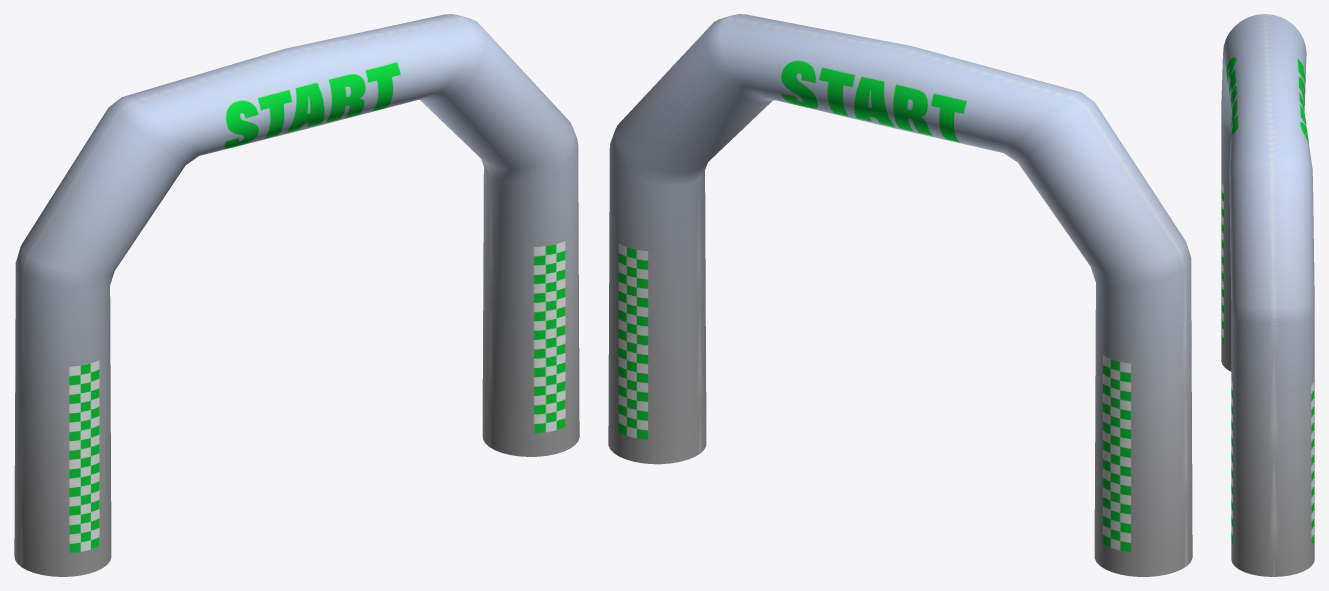
File: StartLine.fbx
3 views of the same model, side by side, from view 1: azimuth 30°, elevation 25°; view 2: azimuth 150°, elevation 25°; view 3: azimuth 270°, elevation 25° (orthographic). The views are drawn at different scales.
Visible parts, largest first — view 1: Cylinder.002_Material.002_0; view 2: Cylinder.002_Material.002_0; view 3: Cylinder.002_Material.002_0.
Part boxes in pixels (x1,y1,x2,y2): Cylinder.002_Material.002_0: (14,14,579,576); Cylinder.002_Material.002_0: (608,14,1192,576); Cylinder.002_Material.002_0: (1221,14,1314,576).
Size of the model in its own units: 132 by 100 by 22.24.
1 material, 1 textured.
